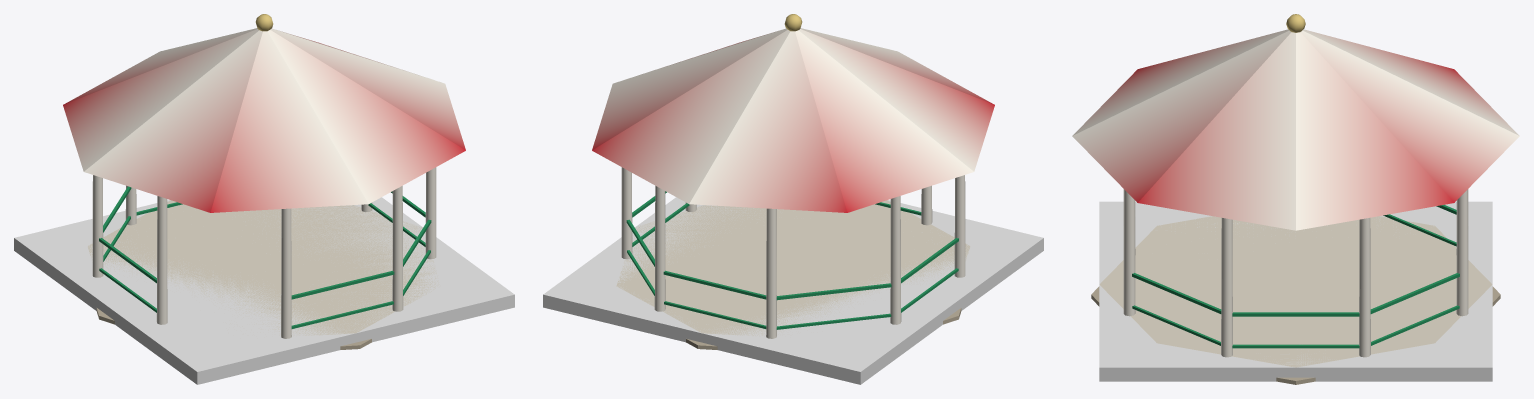
The model's file is kiosco.glb.
The picture shows the model from 3 angles, left to right: view 1: azimuth 30°, elevation 25°; view 2: azimuth 150°, elevation 25°; view 3: azimuth 270°, elevation 25°; orthographic projection. The views are drawn at different scales.
Parts seen in each view (by area): view 1: kiosco_Malla, COL_0; view 2: kiosco_Malla, COL_0; view 3: kiosco_Malla, COL_0.
Part boxes in pixels (left/top/right/bottom): kiosco_Malla: left=63, top=14, right=465, bottom=349; COL_0: left=14, top=197, right=514, bottom=384; kiosco_Malla: left=592, top=14, right=994, bottom=349; COL_0: left=543, top=197, right=1043, bottom=384; kiosco_Malla: left=1072, top=14, right=1519, bottom=384; COL_0: left=1099, top=201, right=1492, bottom=381.
Size of the model in its own units: 8.2 by 5.73 by 8.2.
